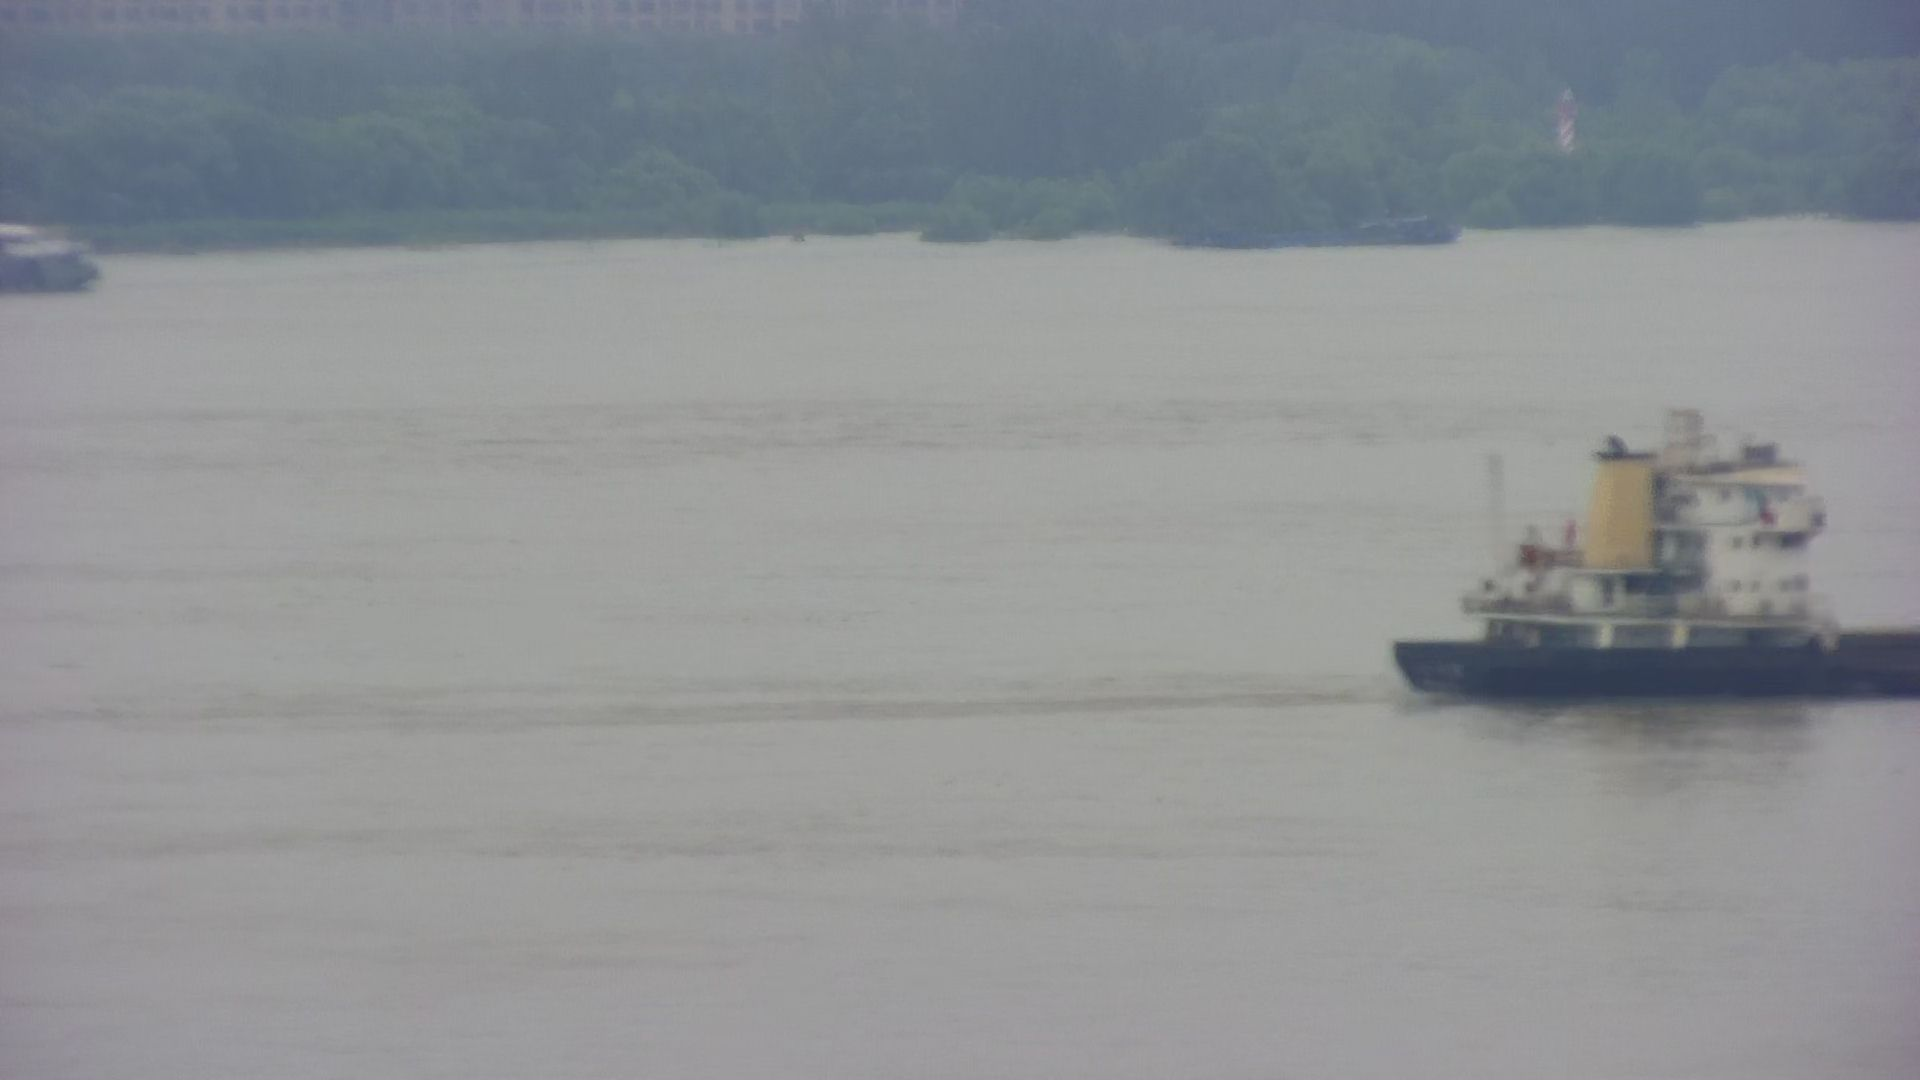boat: (1158, 203, 1487, 255)
ship: (1379, 407, 1920, 717), (1, 203, 109, 313)
